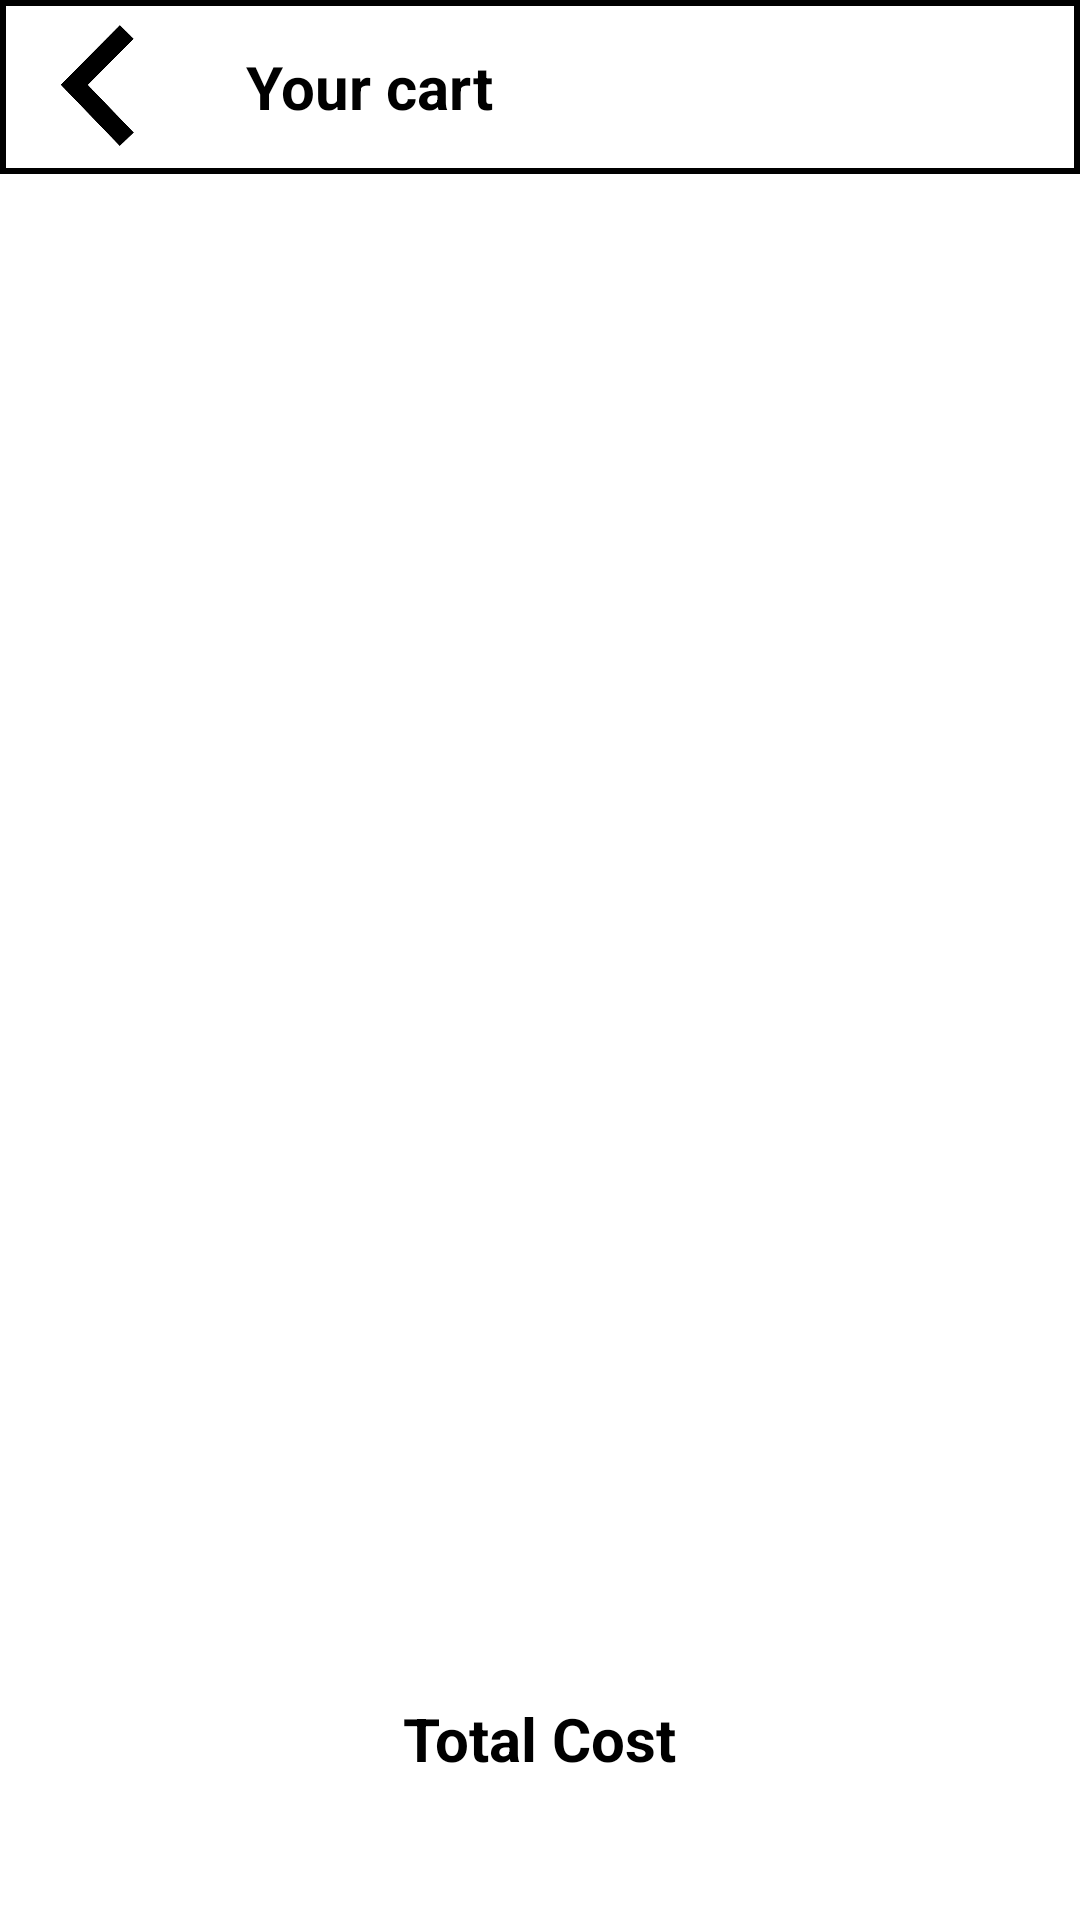

Locate icon controls on the screen. Image size 1080*1920, boxes as (x1, y1, x2, y2).
back: (61, 25, 134, 146)
